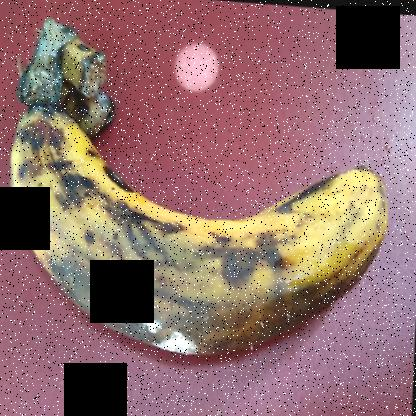rotten: (0, 111, 392, 397)
